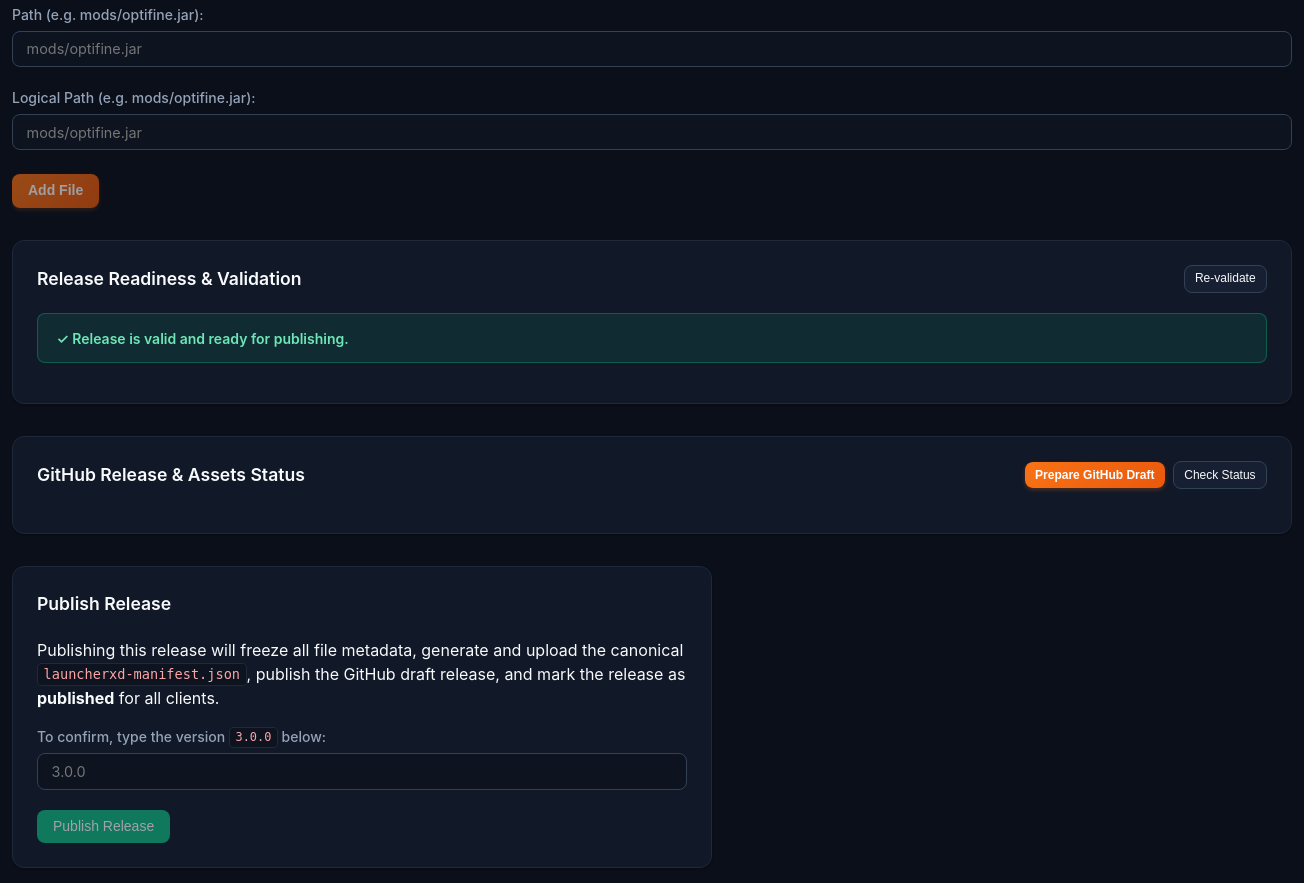
it: Release Detail Unified Single-Page UI Functional Tests › 2. "Prepare GitHub Draft" executes prepare API and refreshes status
The image size is (1304, 883).
(page scrolled)
Click the button "Prepare GitHub Draft": (1095, 475) [1025, 462, 1165, 488]
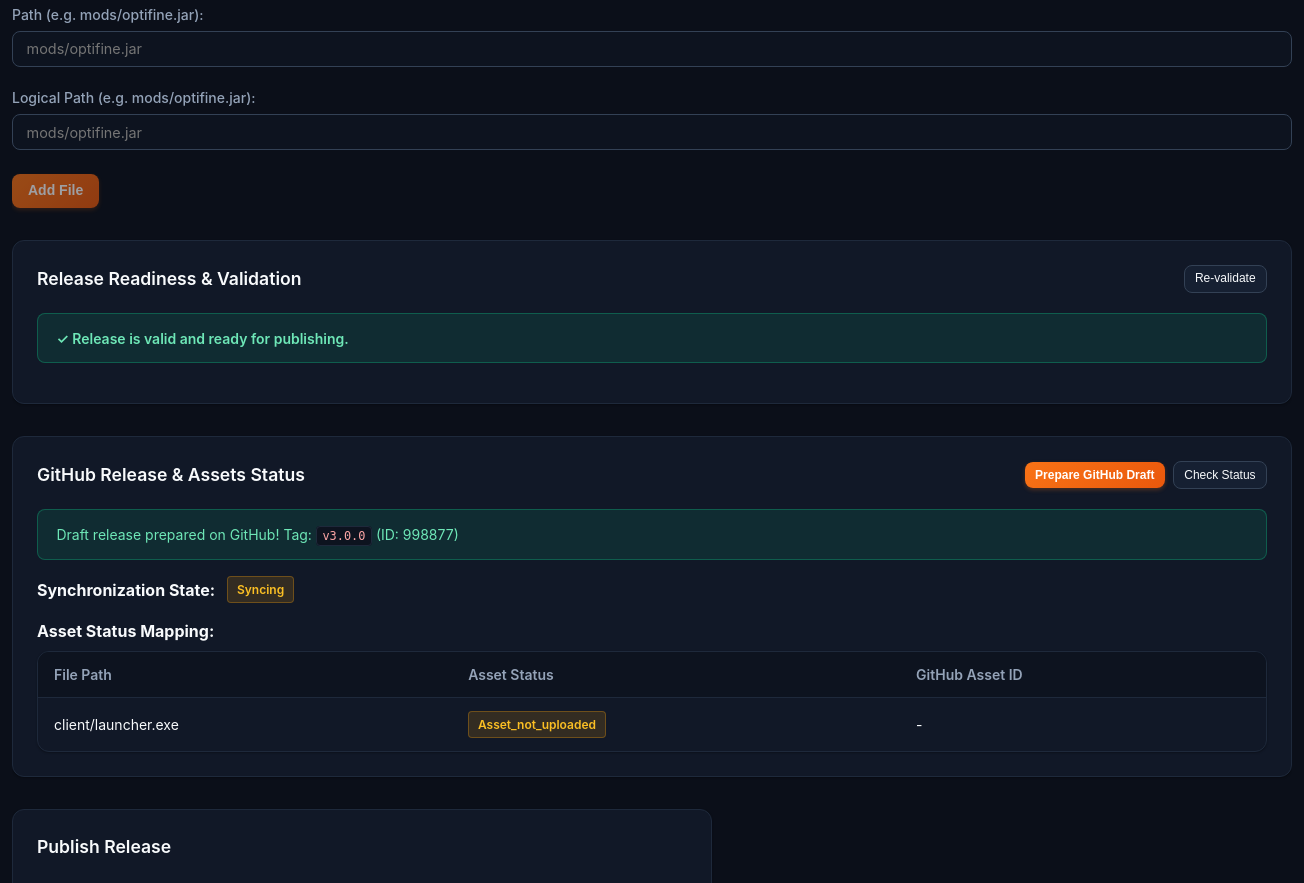
Expected: the text "Draft release prepared on GitHub! Tag: v3.0.0 (ID: 998877)" is shown, [37, 509, 1267, 560]
Expected: the text "v3.0.0" is shown, [316, 526, 372, 546]
